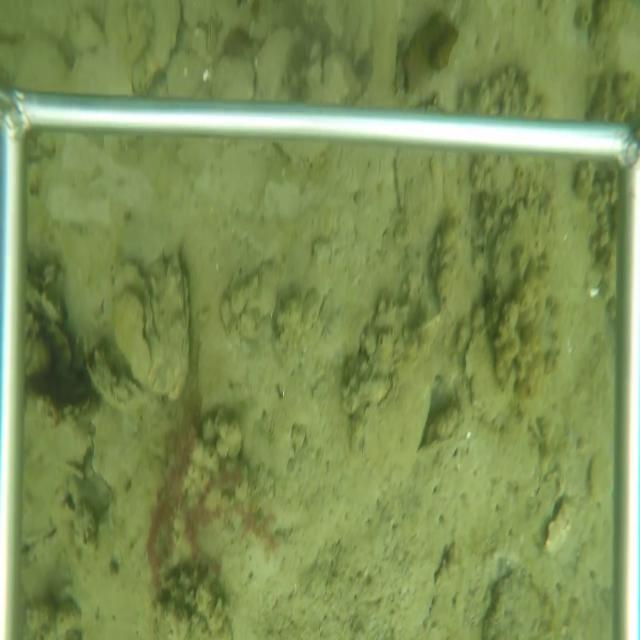Oyster-Closed: (112, 253, 191, 404), (462, 313, 518, 439), (486, 199, 545, 299), (125, 4, 184, 95), (347, 360, 398, 452), (481, 567, 547, 638)
Oyster-Indeterminate: (254, 22, 301, 99), (541, 494, 582, 556), (209, 53, 257, 99), (165, 51, 214, 95), (44, 321, 74, 380)
